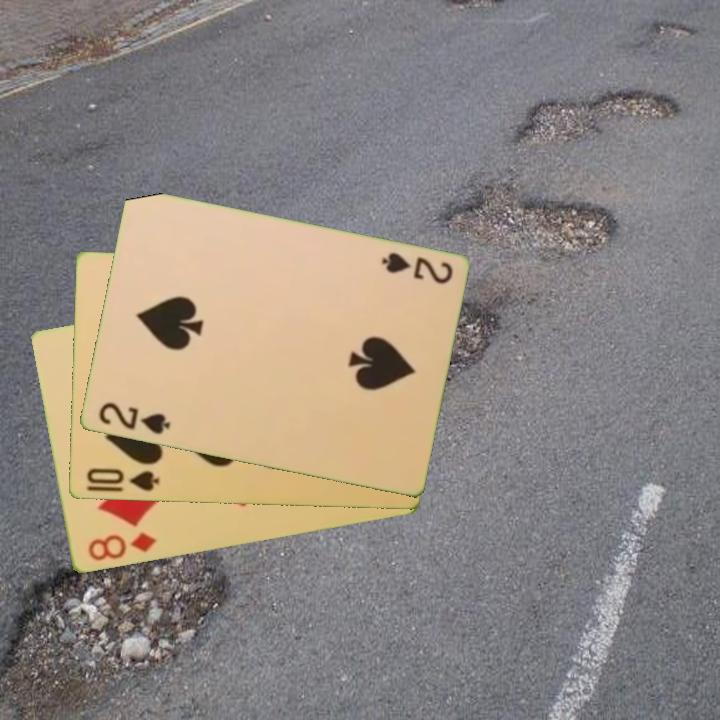10s: (82, 465, 161, 495)
2s: (94, 399, 173, 438), (377, 249, 456, 287)
8d: (84, 529, 159, 564)
